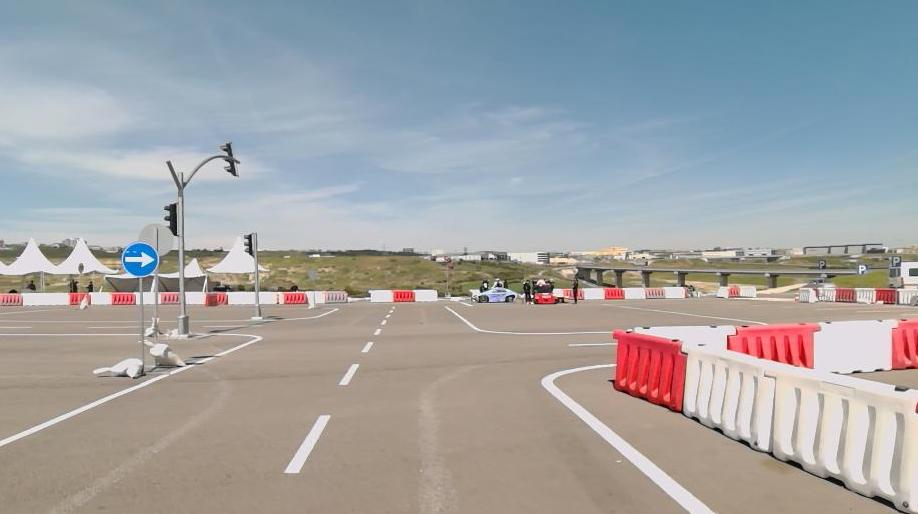nesne: (0, 298, 717, 513), (269, 298, 715, 512), (0, 299, 400, 512), (608, 325, 917, 511), (0, 330, 263, 448), (543, 361, 713, 512), (771, 362, 916, 513), (677, 343, 775, 451), (609, 329, 683, 410), (442, 305, 613, 334), (812, 320, 894, 374), (725, 321, 815, 370), (285, 412, 331, 474), (637, 322, 727, 352), (0, 292, 179, 306), (795, 285, 917, 305), (138, 333, 187, 366), (121, 242, 160, 277), (580, 285, 685, 298), (91, 354, 146, 378), (893, 319, 917, 368), (259, 289, 348, 302), (369, 287, 439, 302), (268, 306, 339, 320), (186, 291, 255, 303), (533, 274, 561, 303), (0, 330, 141, 335), (888, 261, 915, 286), (470, 288, 521, 301), (24, 293, 68, 306), (338, 361, 359, 384), (228, 291, 255, 305), (873, 288, 896, 304), (896, 288, 917, 305), (146, 314, 163, 333), (369, 289, 393, 302), (854, 288, 874, 303), (324, 289, 347, 302), (134, 292, 161, 303), (833, 288, 854, 302), (259, 292, 285, 303), (393, 288, 415, 301), (416, 288, 438, 301), (602, 286, 624, 299), (796, 288, 816, 302), (282, 291, 307, 302), (816, 288, 835, 302), (206, 292, 228, 304), (570, 277, 581, 301), (186, 292, 207, 304), (490, 276, 511, 288), (522, 277, 532, 302), (645, 285, 667, 296), (307, 290, 325, 303), (583, 287, 604, 298), (1, 295, 24, 305), (111, 293, 134, 303), (161, 292, 180, 304), (626, 286, 645, 298), (77, 296, 92, 310), (666, 286, 685, 297), (68, 294, 90, 303), (474, 275, 488, 289), (740, 283, 756, 295), (92, 293, 111, 303), (68, 278, 81, 290), (360, 340, 373, 352), (855, 263, 867, 275), (304, 298, 316, 310), (25, 278, 36, 291), (728, 284, 739, 296), (718, 284, 728, 295), (890, 255, 899, 267), (816, 258, 825, 269), (85, 280, 93, 291), (373, 326, 381, 335)
